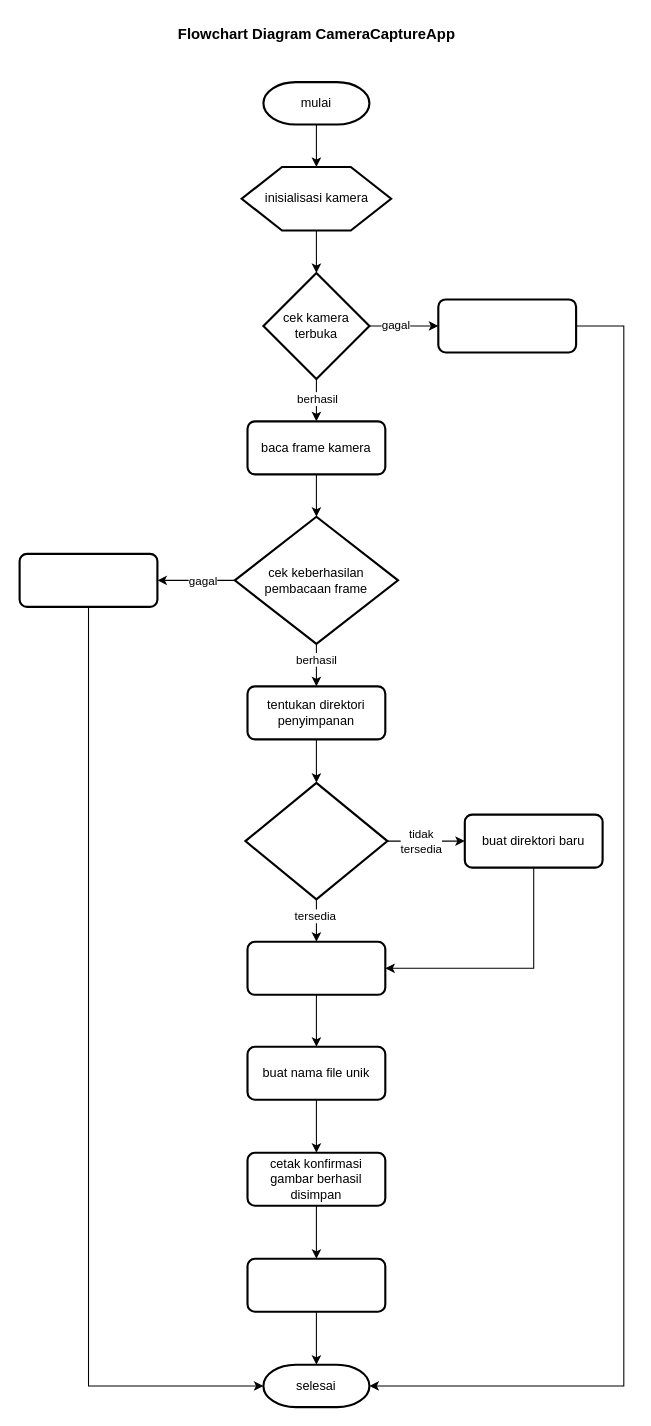
The diagram is 651 pixels wide and 1426 high, and some of its shapes have lost their labels. Each missing label, with the centre of its shape:
"cek ketersediaan direktori" goes at point 316,840.
"cetak konfirmasi gagal membaca frame kamera" goes at point 88,579.
"cetak konfirmasi kamera tidak dapat diakses" goes at point 507,325.
"dapatkan timestamp" goes at point 316,967.
"release kamera" goes at point 316,1284.
